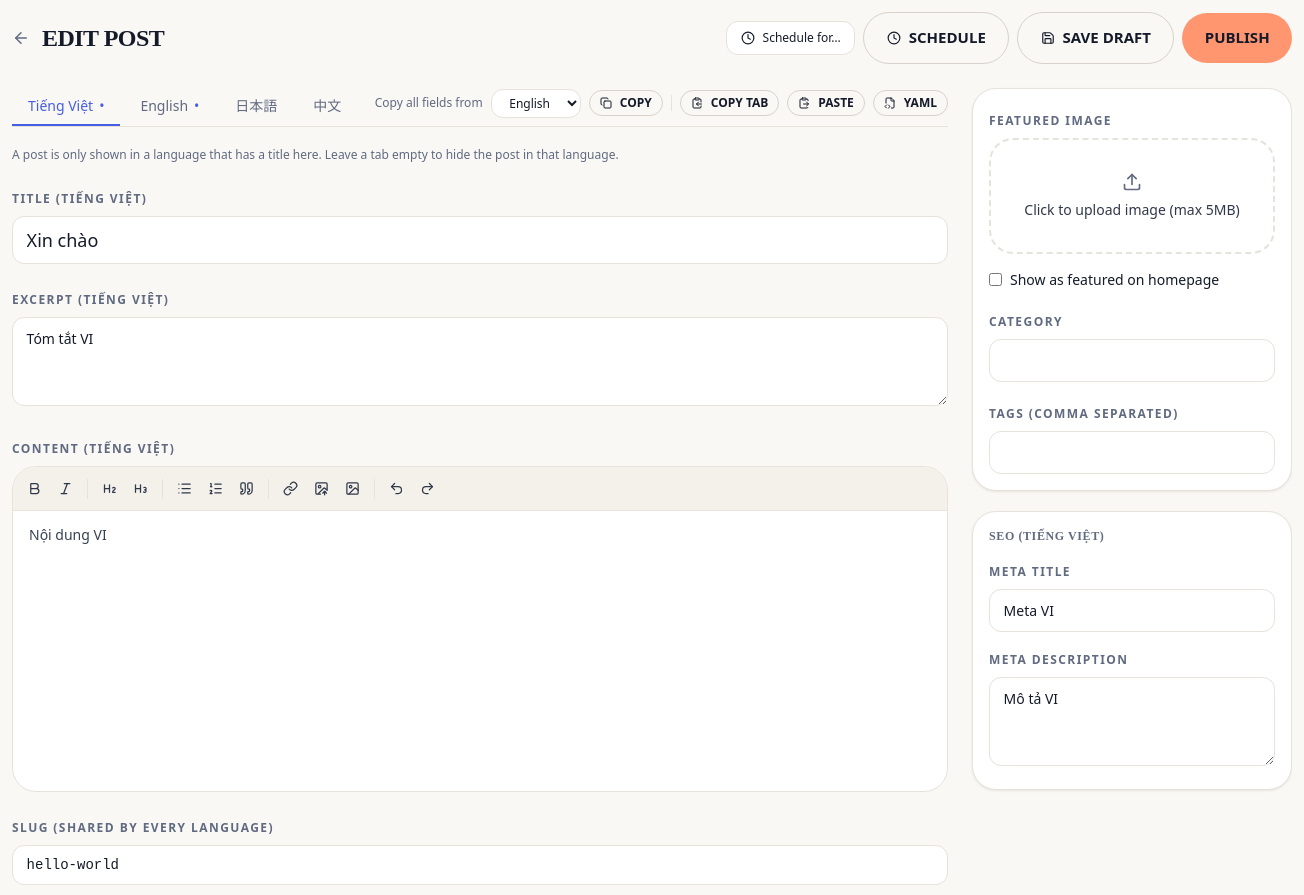
PostEditor one-click locale copy › copies title, excerpt, meta and content from vi to en in one click
Expected: the field labelled "Title (Tiếng Việt)" holds "Xin chào", [12,216,948,264]
Click the button "English•": (170, 107) [124,88,215,126]
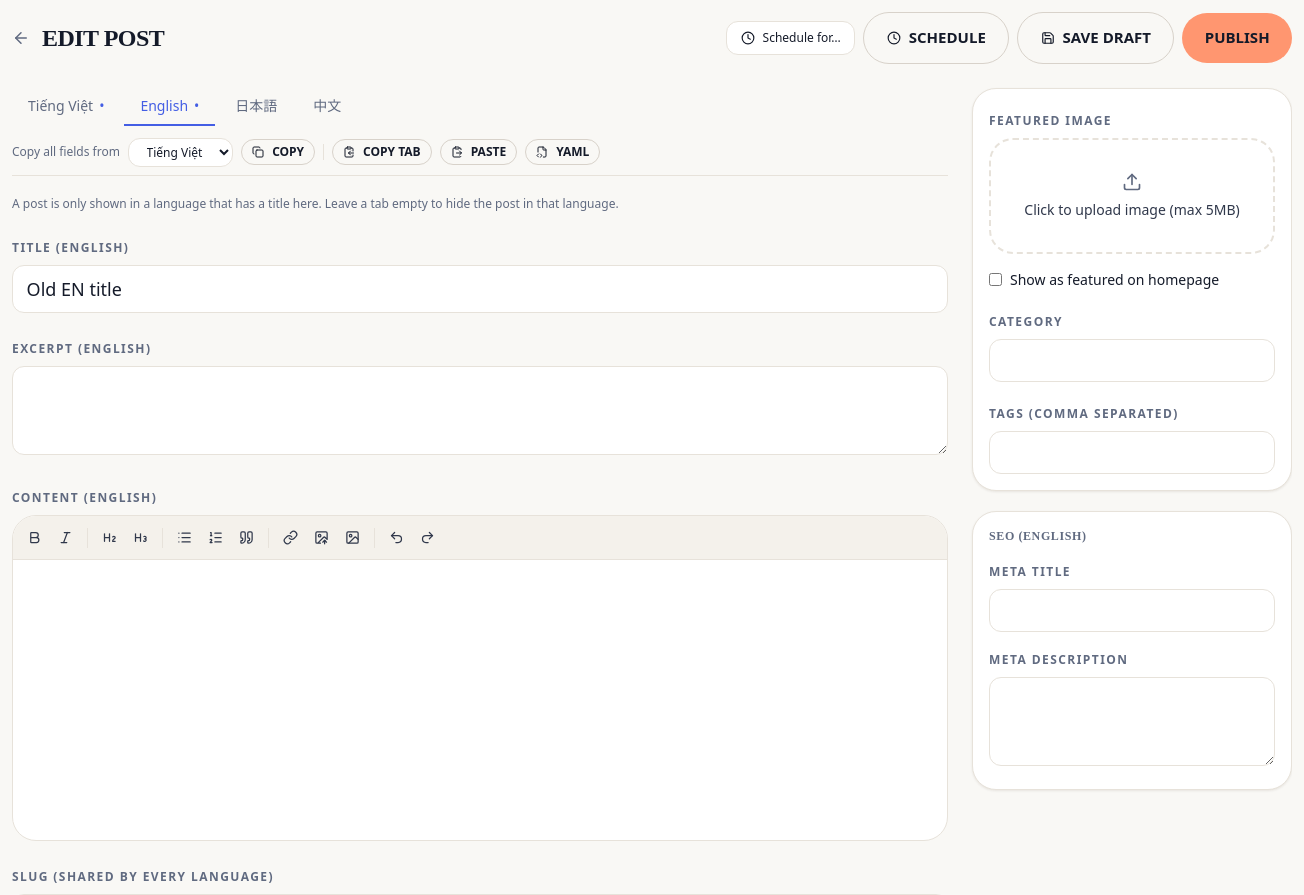
Result: the dropdown named "source language to copy from" shows "Tiếng Việt" at [128,138,233,167]
Click the button "COPY": (278, 152) [241,139,315,165]
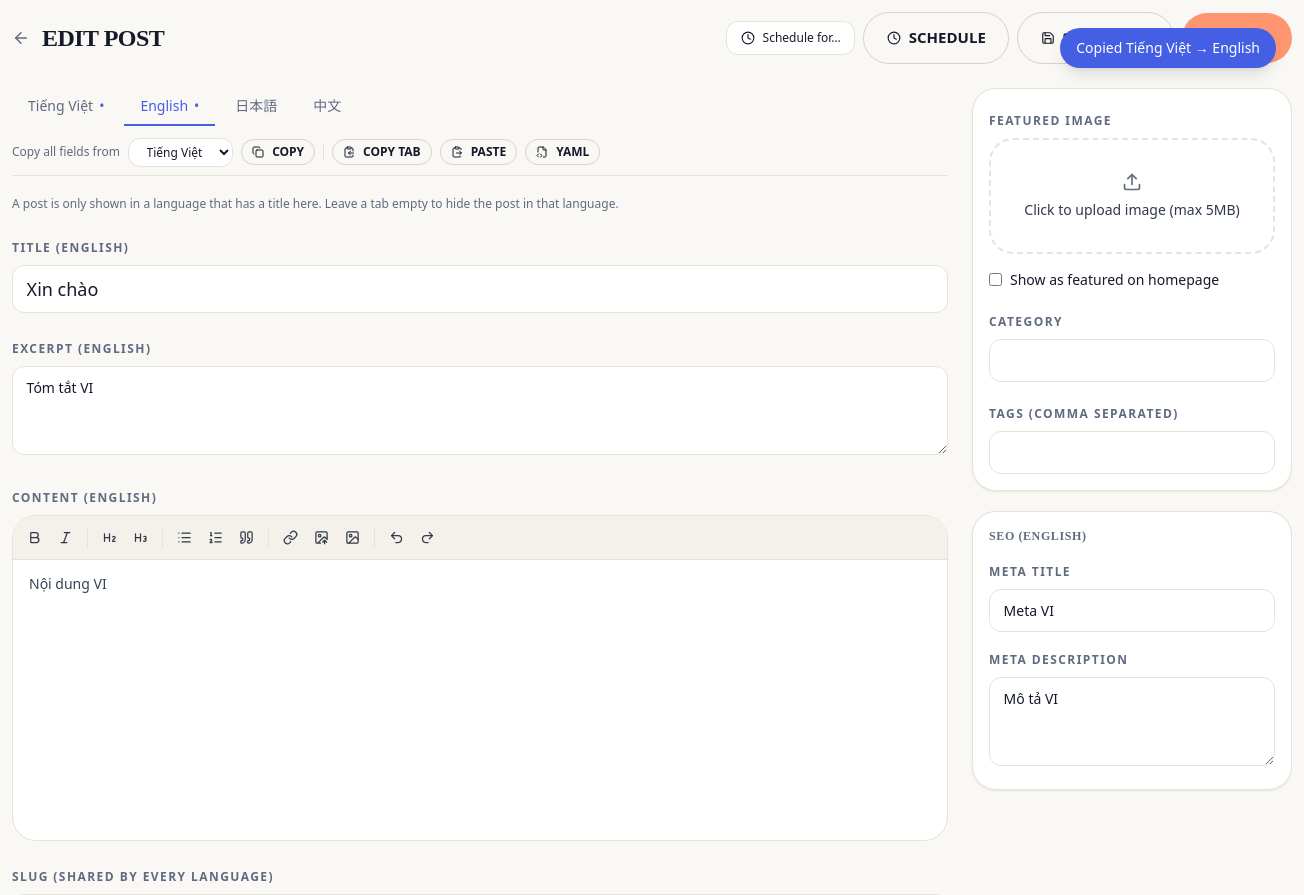
Result: the field labelled "Title (English)" holds "Xin chào" at [12,265,948,312]
Result: the text box labelled "Excerpt (English)" holds "Tóm tắt VI" at [12,366,948,455]
Result: the field labelled "Meta title" holds "Meta VI" at [989,589,1275,632]
